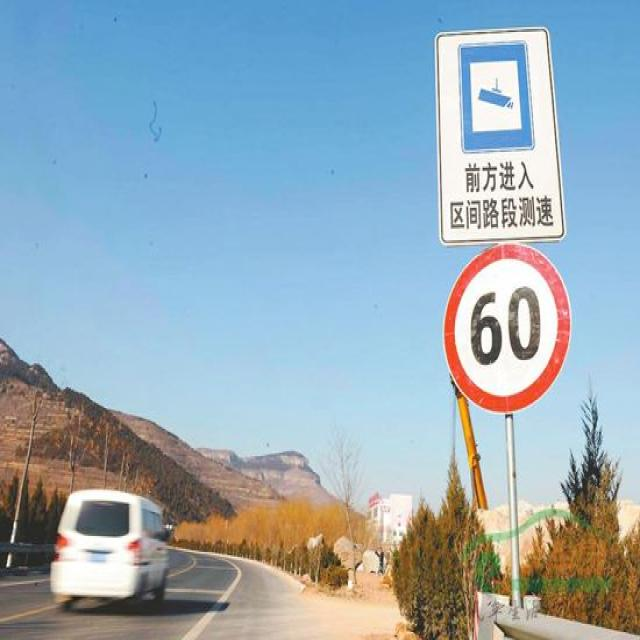speed limit 60: (444, 244, 572, 413)
